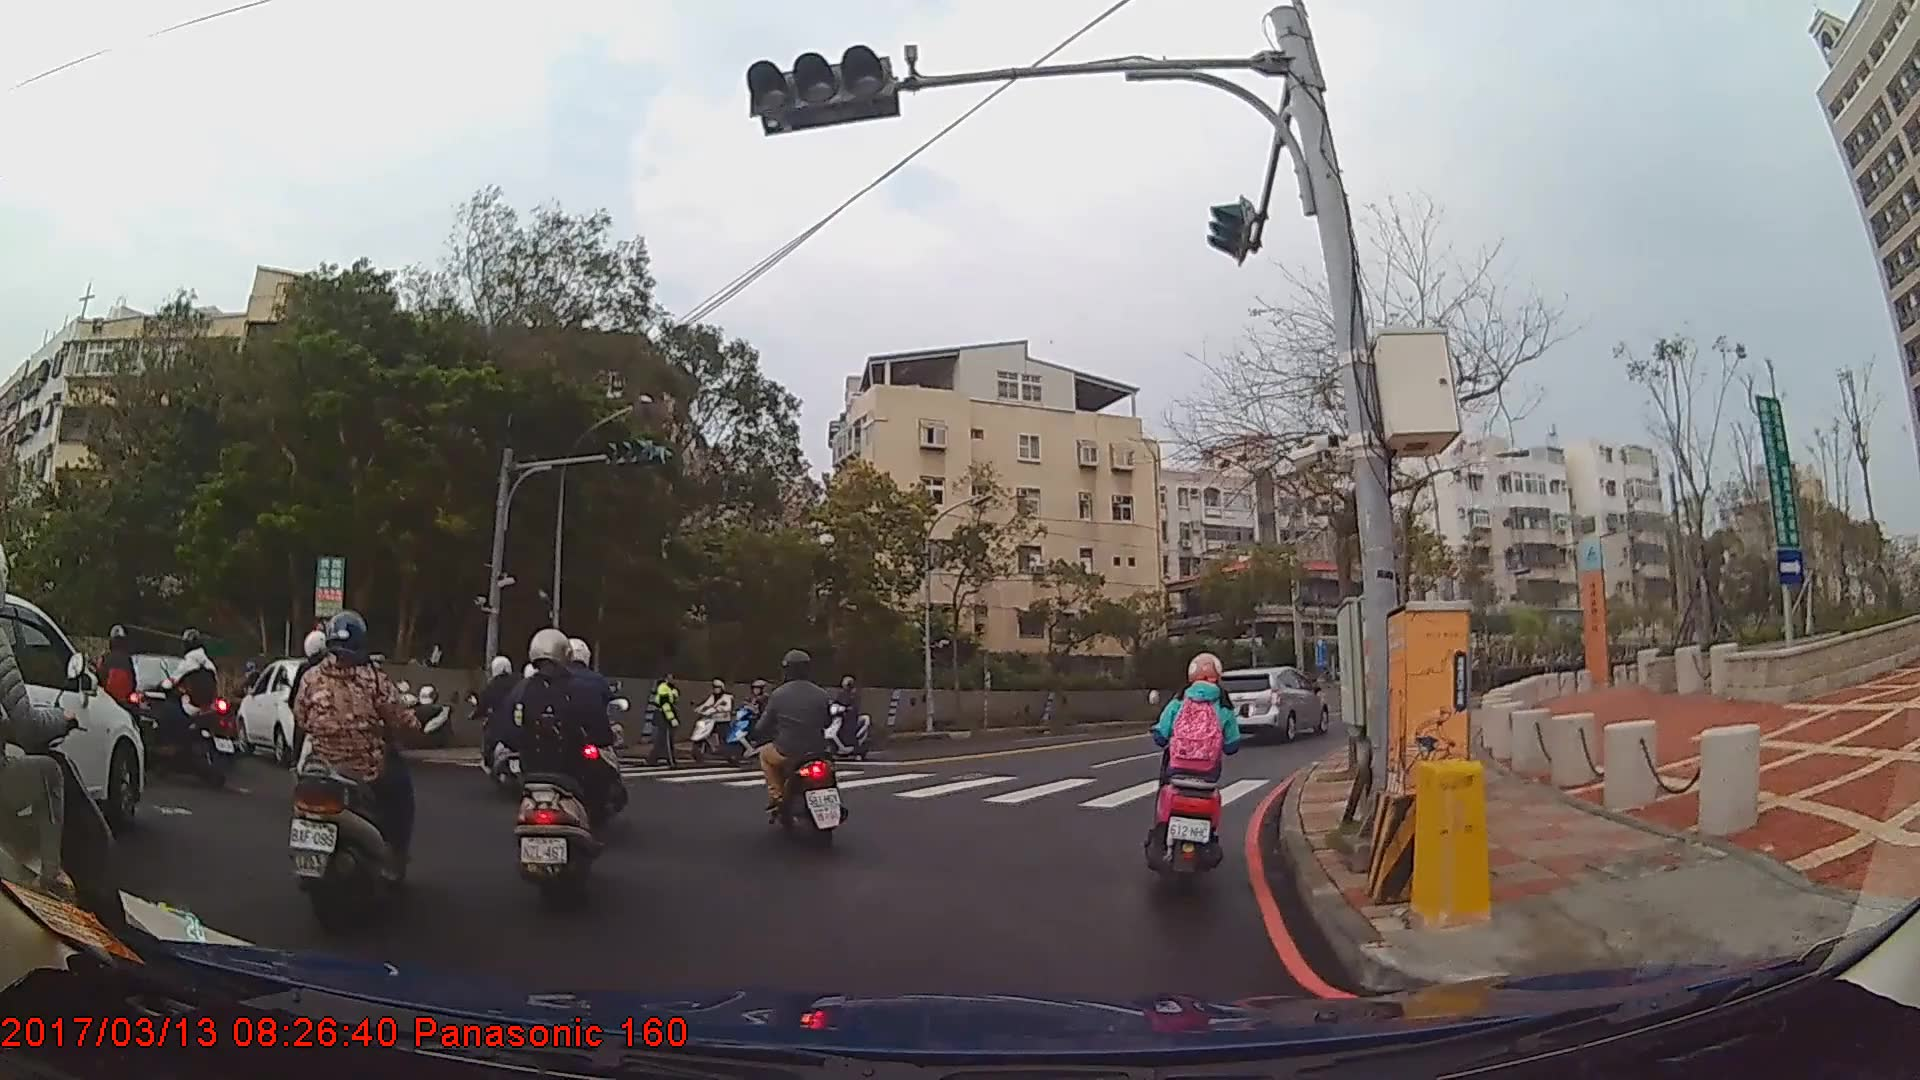pedestrian: (645, 671, 687, 774)
rider: (1, 541, 133, 1008), (282, 615, 420, 926), (498, 628, 616, 904), (1148, 651, 1245, 887), (754, 649, 852, 851), (546, 639, 628, 830), (156, 629, 224, 786), (464, 658, 541, 797), (87, 627, 149, 766), (726, 680, 786, 762), (818, 678, 873, 764), (689, 678, 742, 760)
vehicle: (0, 594, 144, 830), (237, 661, 367, 766), (113, 652, 229, 764), (1206, 664, 1328, 744)
